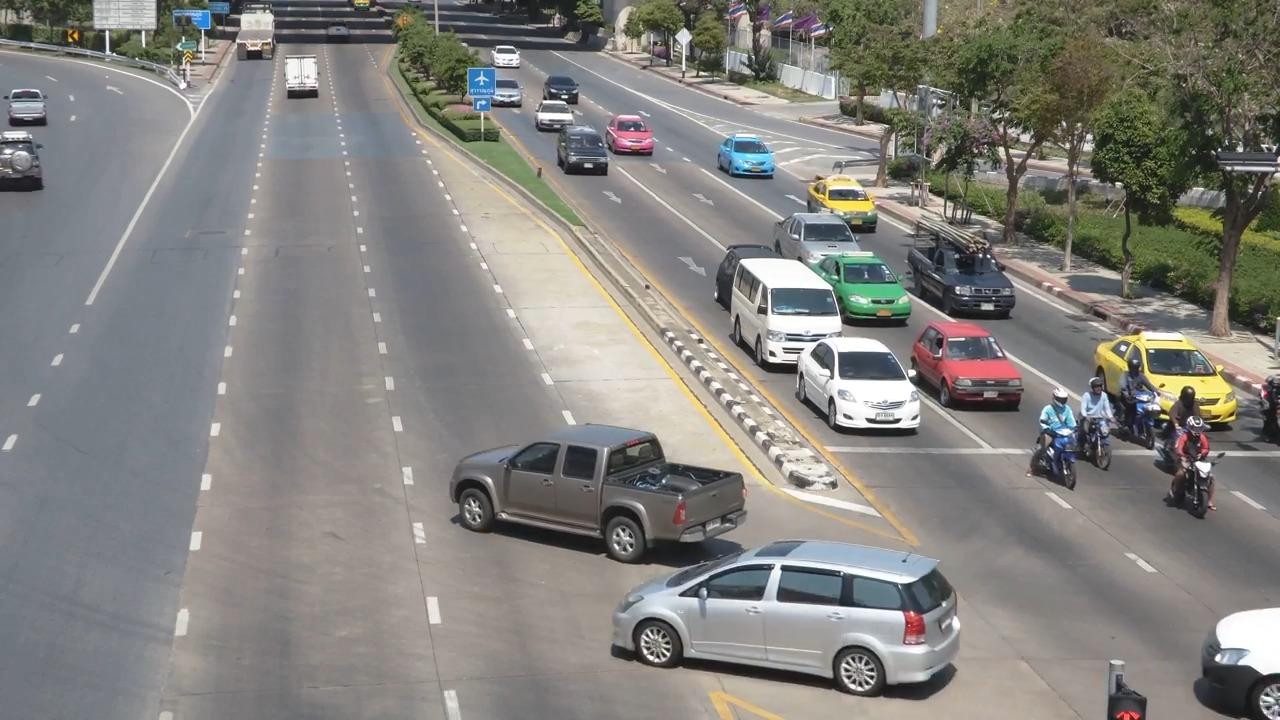CAR: (600, 527, 1004, 691), (439, 405, 753, 570), (1079, 302, 1247, 420), (793, 331, 931, 438), (734, 252, 848, 372), (907, 217, 1027, 325), (914, 311, 1025, 410), (814, 249, 916, 327), (768, 193, 857, 265), (803, 167, 883, 230), (710, 128, 786, 192), (0, 127, 61, 204), (270, 46, 333, 111), (551, 123, 609, 179), (1, 82, 57, 137), (604, 112, 665, 157), (537, 65, 585, 102), (531, 95, 578, 132), (488, 77, 525, 109), (486, 36, 519, 65)
HGV_BUS: (228, 2, 288, 70)
MOTOR: (1156, 414, 1231, 516), (1016, 378, 1077, 478), (1111, 353, 1159, 442), (1064, 368, 1110, 458)
